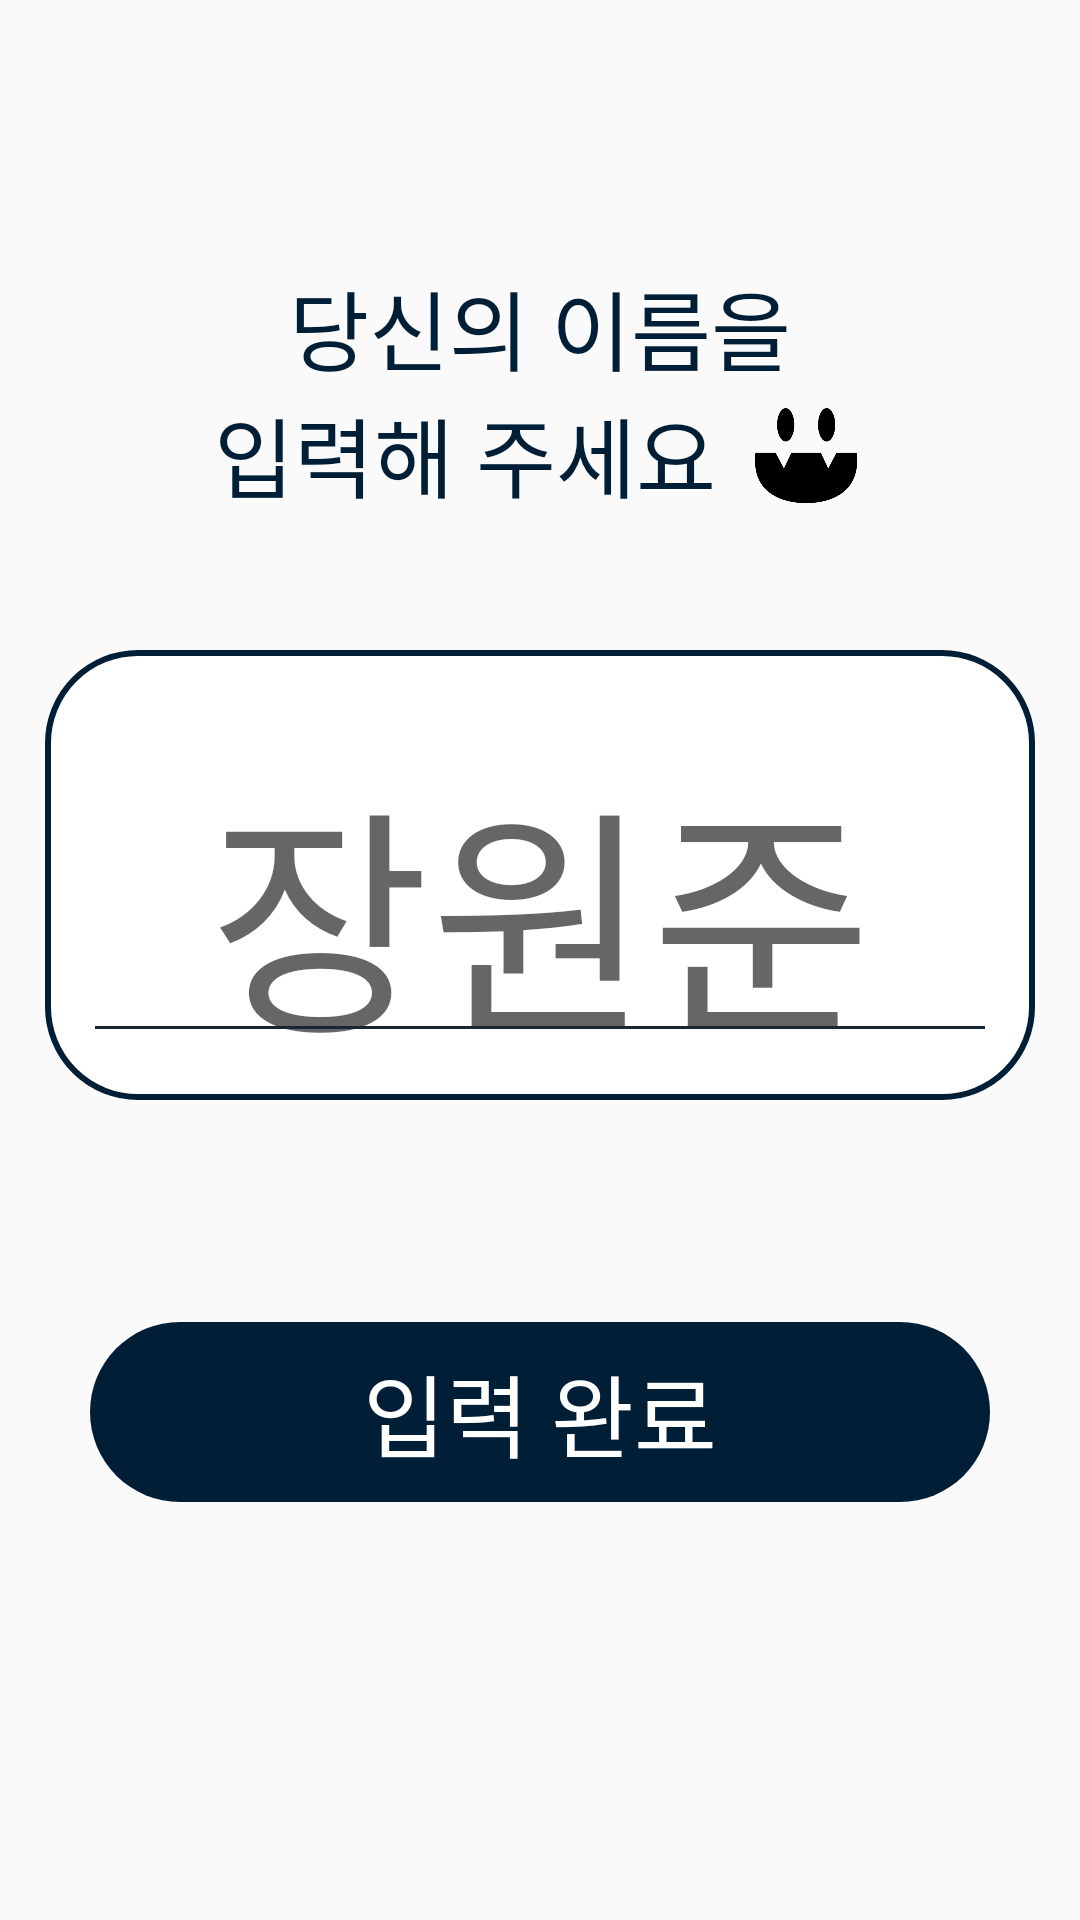

Where icons sit on this 1080px×1920px app screen, as BBox(x1, y1, x2, y2):
face: BBox(755, 408, 857, 503)
